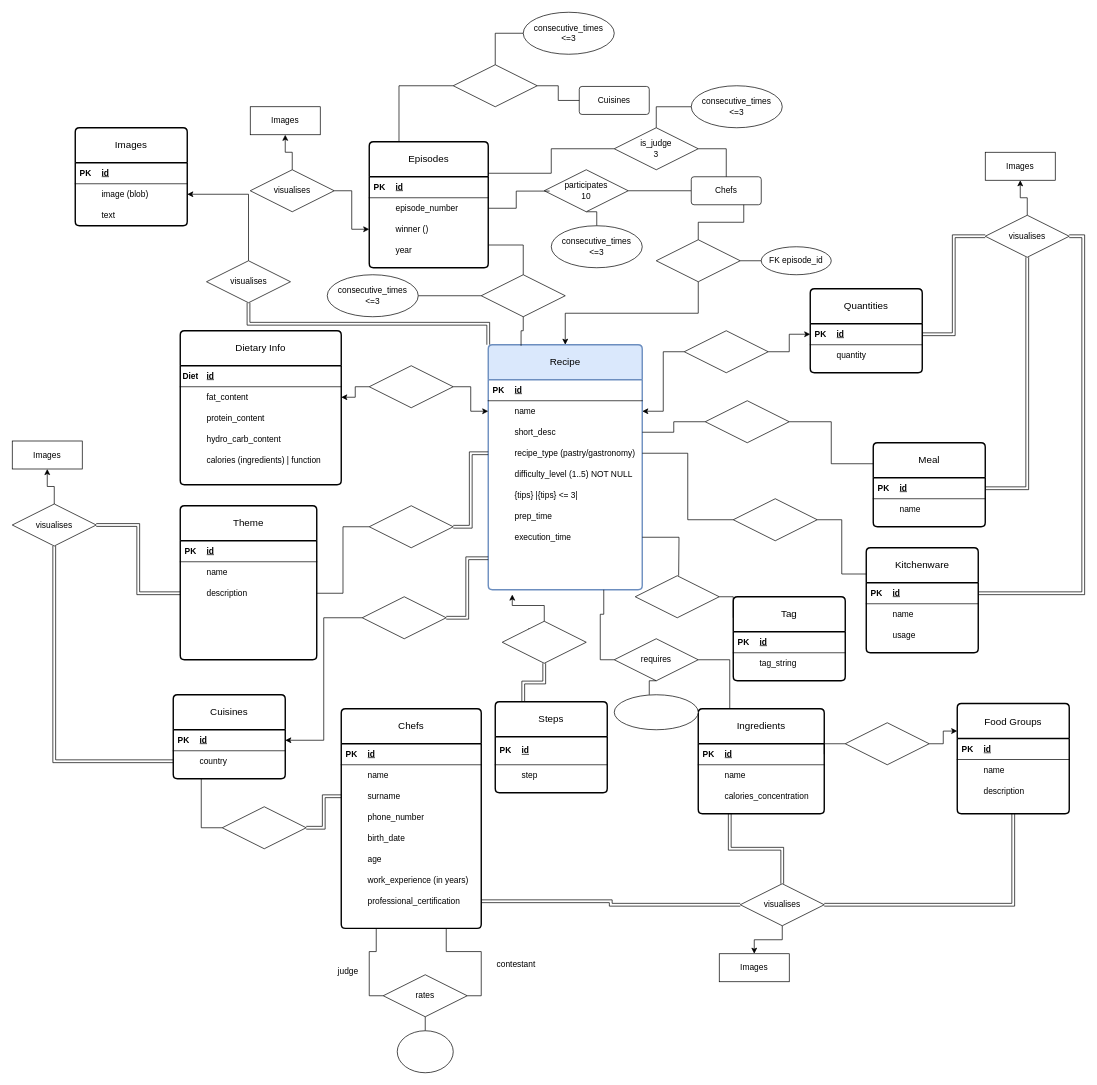
This 1097x1085 diagram has some shape labels left out. The shapes that lost their labels are listed below. From the top down, each one's centre as x and y in pixels, then its label:
At pixel 495 85: "is_chosen 10".
At pixel 698 260: "cooks".
At pixel 523 295: "recipe_in_episode".
At pixel 726 351: "makes".
At pixel 411 386: "rec_diet_info".
At pixel 747 421: "meal_type".
At pixel 411 526: "recipe_theme".
At pixel 775 519: "uses".
At pixel 677 596: "recipe_tag".
At pixel 404 617: "origin".
At pixel 544 642: "recipe_steps".
At pixel 656 712: "quantity main_ingr type()".
At pixel 887 743: "belongs".
At pixel 264 827: "specializes_in".
At pixel 425 1051: "FK episode_id score".
